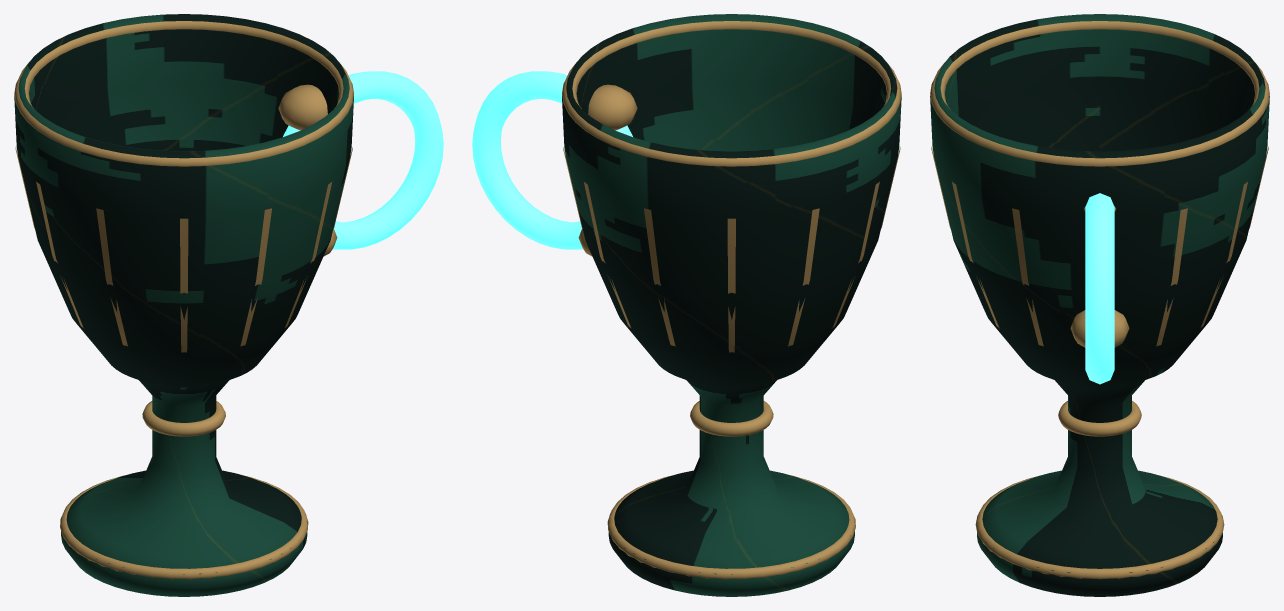
The model's file is cup_pattern_jade.fbx.
The picture shows the model from 3 angles, left to right: view 1: azimuth 30°, elevation 25°; view 2: azimuth 150°, elevation 25°; view 3: azimuth 270°, elevation 25°; orthographic projection.
Parts seen in each view (by area): view 1: Reviewed_cup_Body.005, TH_S_Cup_Handle.006; view 2: Reviewed_cup_Body.005, TH_S_Cup_Handle.006; view 3: Reviewed_cup_Body.005, TH_S_Cup_Handle.006.
Boxes of the visible parts, x1=… form: Reviewed_cup_Body.005: x1=14, y1=14, x2=353, y2=596; TH_S_Cup_Handle.006: x1=283, y1=71, x2=443, y2=249; Reviewed_cup_Body.005: x1=562, y1=14, x2=901, y2=596; TH_S_Cup_Handle.006: x1=472, y1=71, x2=632, y2=249; Reviewed_cup_Body.005: x1=930, y1=14, x2=1269, y2=596; TH_S_Cup_Handle.006: x1=1085, y1=193, x2=1114, y2=384.
Size of the model in its own units: 0.19 by 0.209 by 0.138.
3 materials, 1 textured.
